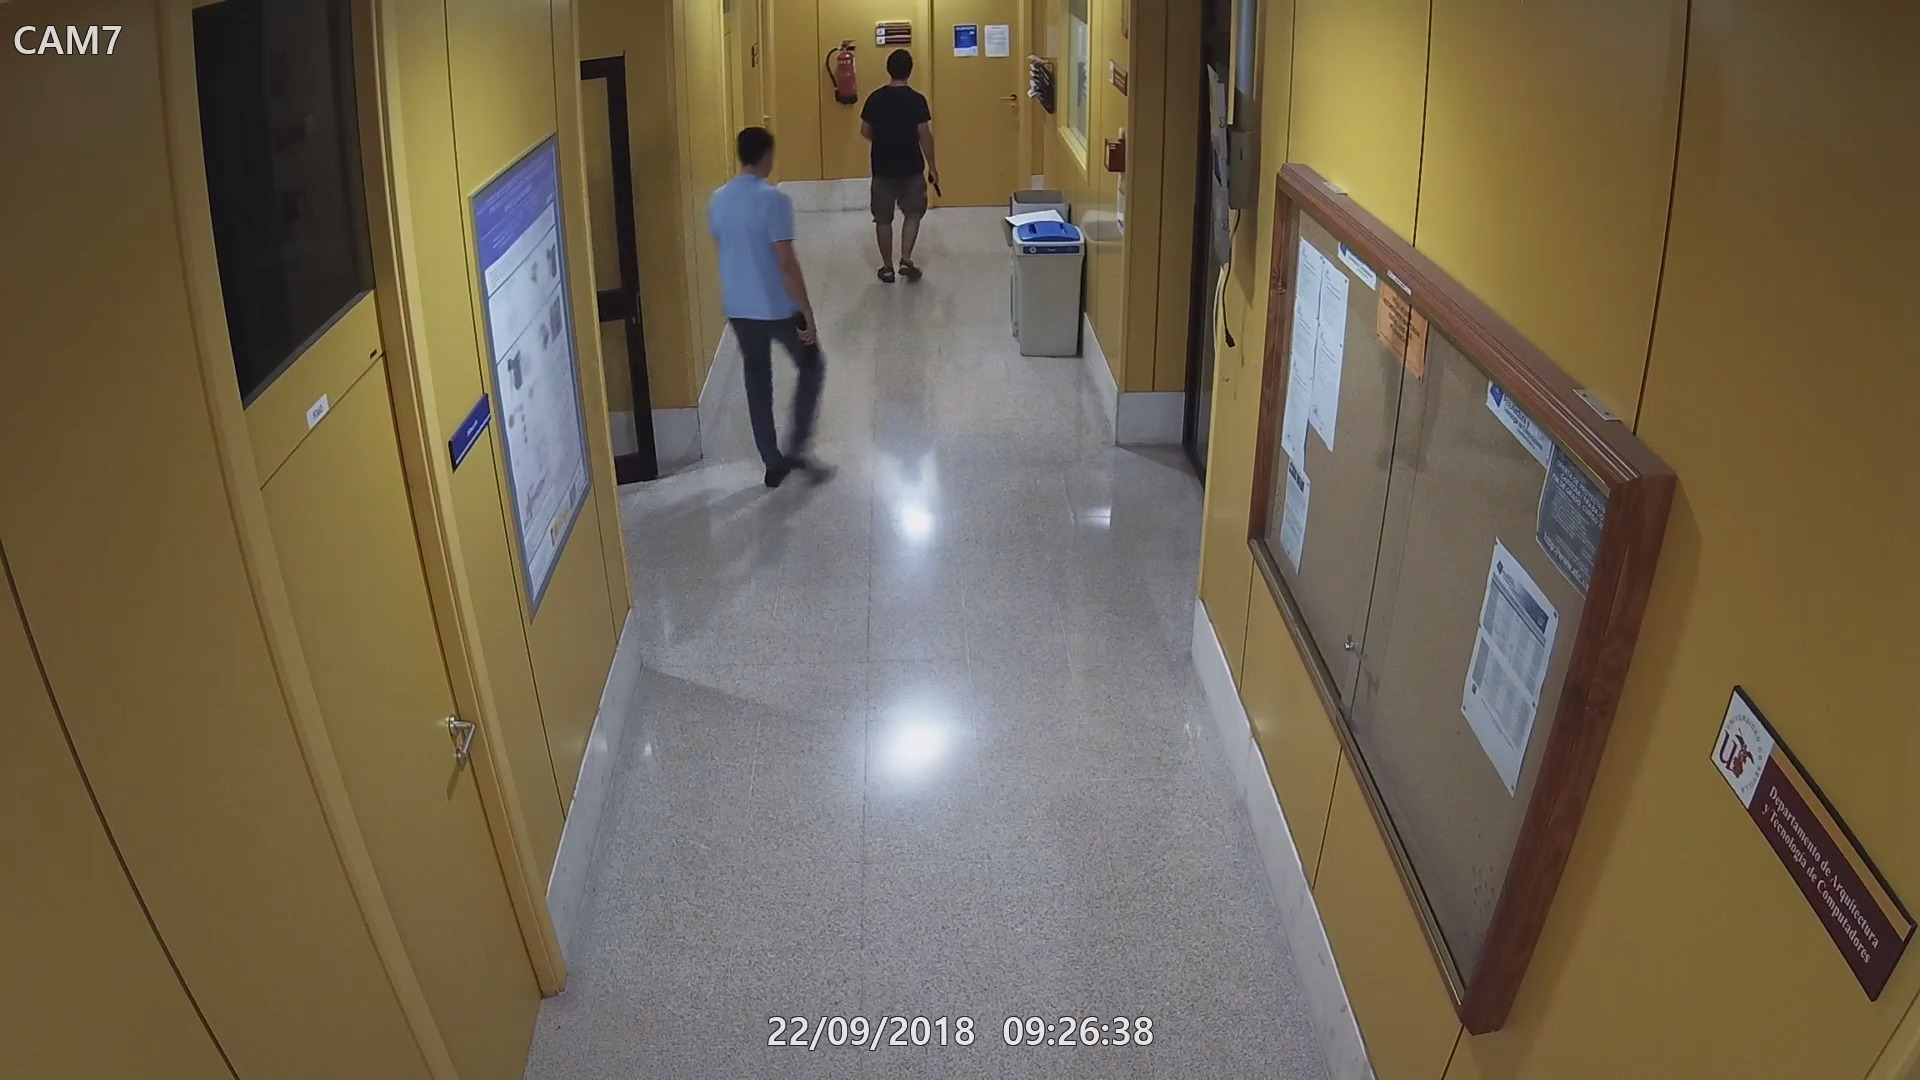Handgun: (920, 162, 945, 202)
